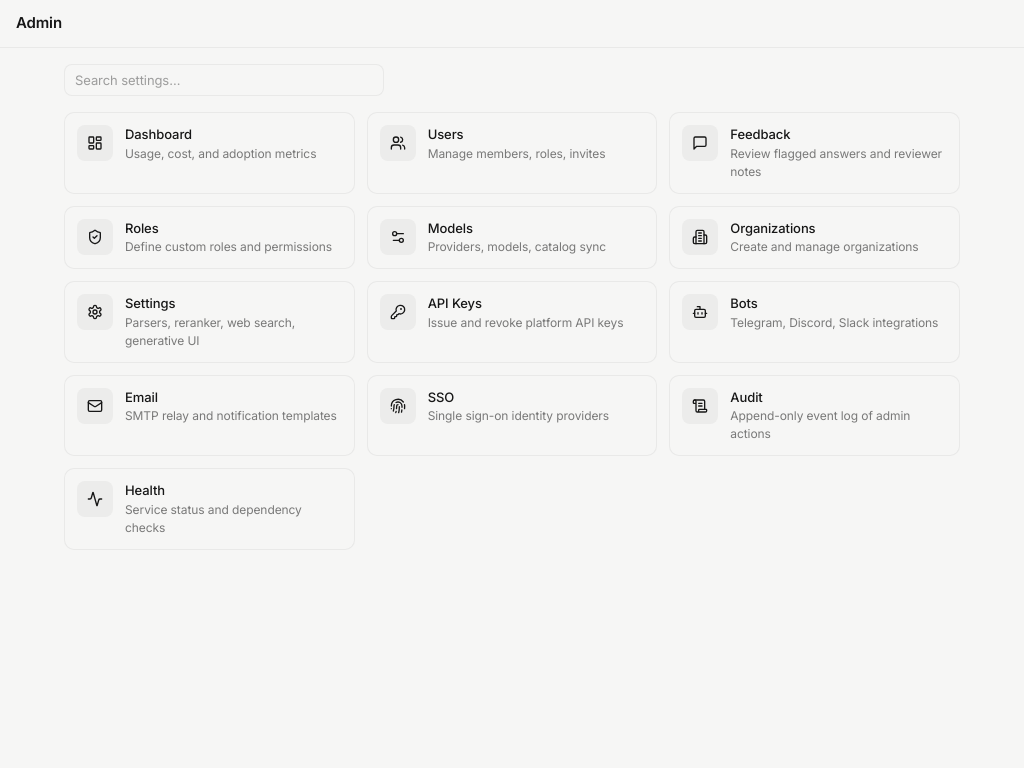
Test: search with no matches shows an empty state
Step 1. Type "zzzznomatch" into the search field with placeholder "Search settings…" → (224, 80), box [64,64,384,96]
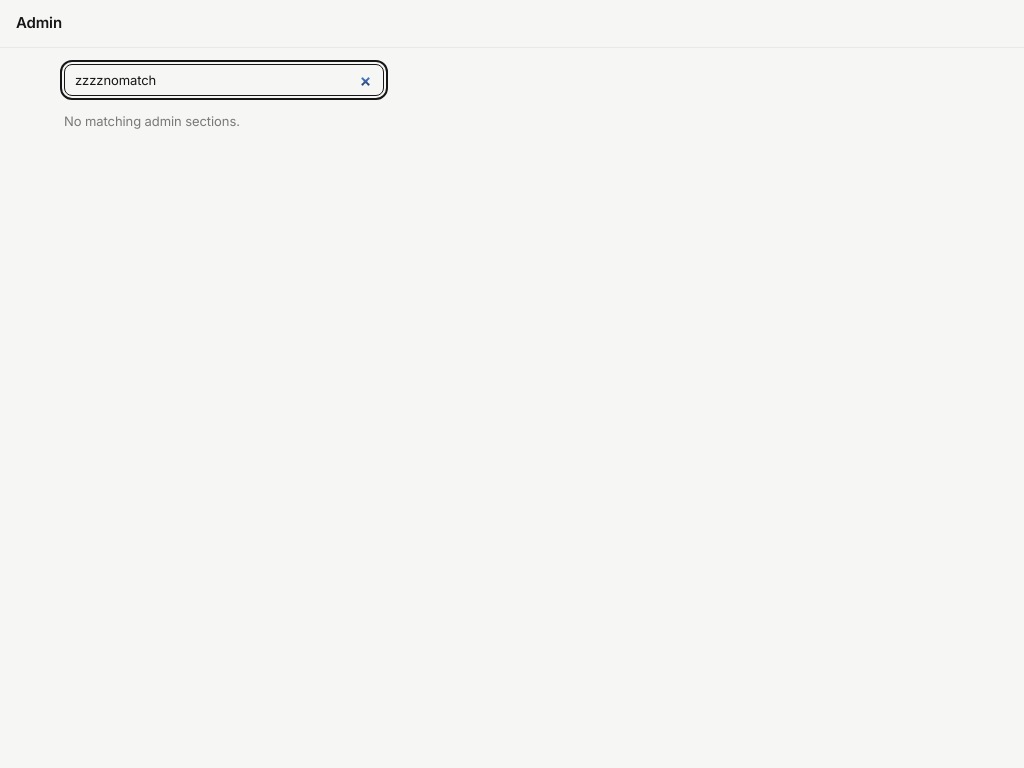
Expected: the text "No matching admin sections." is shown, [64,113,240,129]
